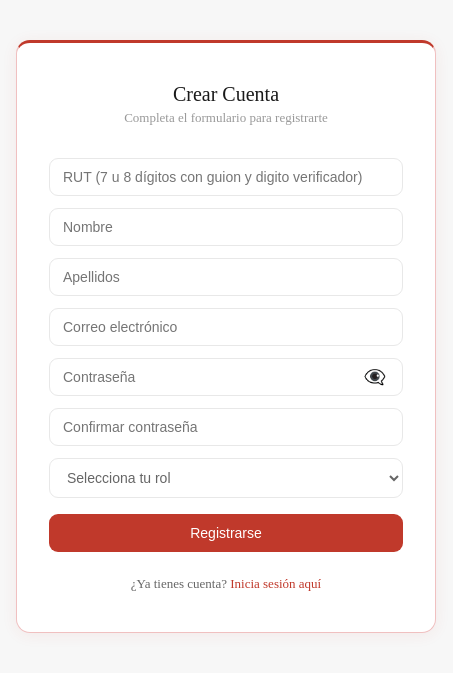
Test: Register › Validaciones de formulario › valida formato de correo
Type "21812636-7" into the field with placeholder "RUT (7 u 8 dígitos con guion y digito verificador)" at (226,176), box [49,158,403,196]
Type "Tomas" into the field with placeholder "Nombre" at (226,226), box [49,208,403,246]
Type "Valdes" into the field with placeholder "Apellidos" at (226,276), box [49,258,403,296]
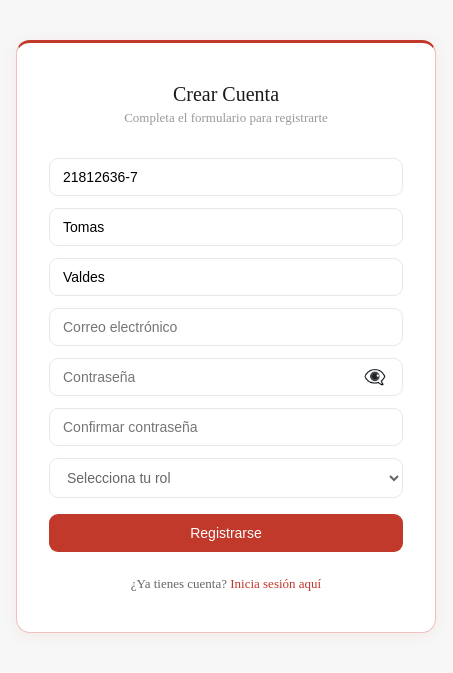
Type "correoinvalido" into the field with placeholder "Correo electrónico" at (226,326), box [49,308,403,346]
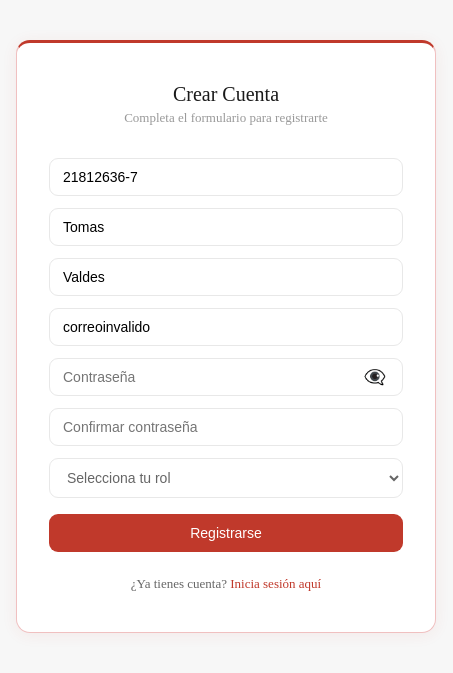
Type "Tomivaldes1!" into the password field with placeholder "Contraseña" at (226,376), box [49,358,403,396]
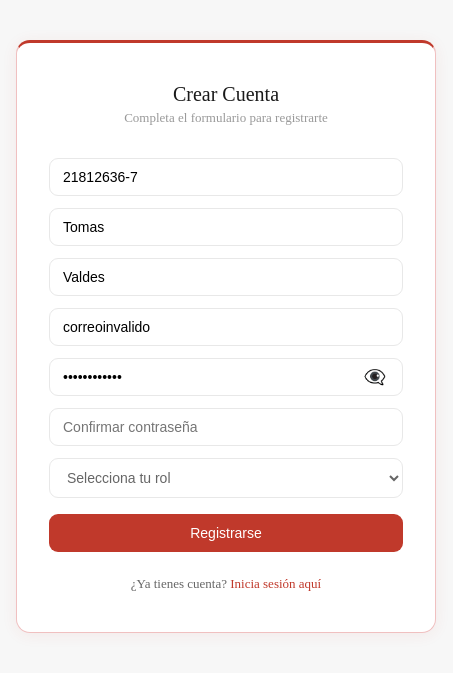
Type "Tomivaldes1!" into the password field with placeholder "Confirmar contraseña" at (226,426), box [49,408,403,446]
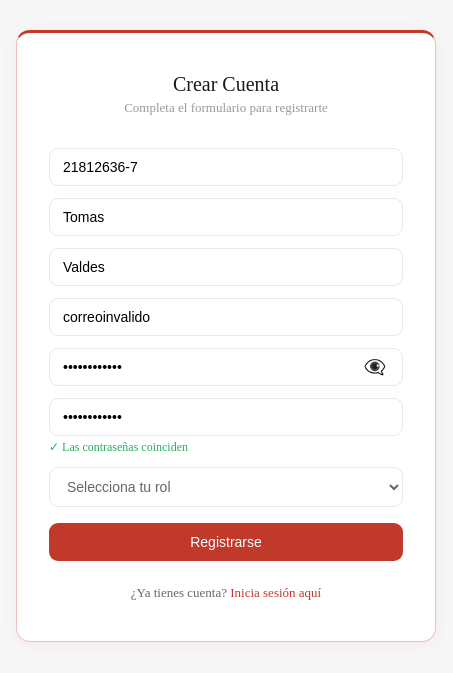
Select "Solicitante" in the dropdown at (226,487), box [49,467,403,507]
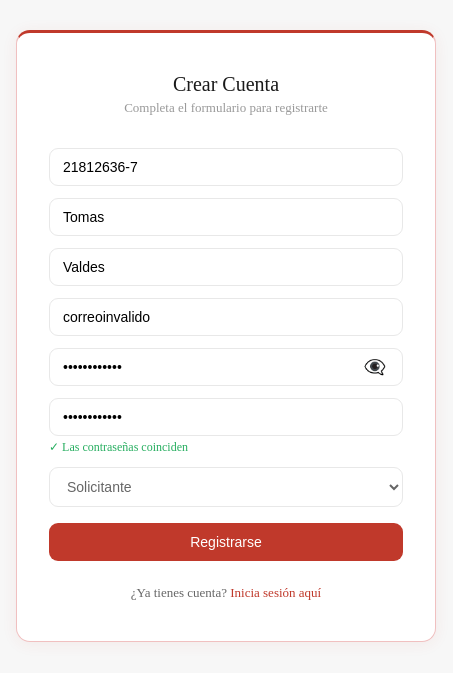
Submit the form "👁️‍🗨️ ✓ Las contraseñas coinciden Registrarse", box [49,148,403,561]
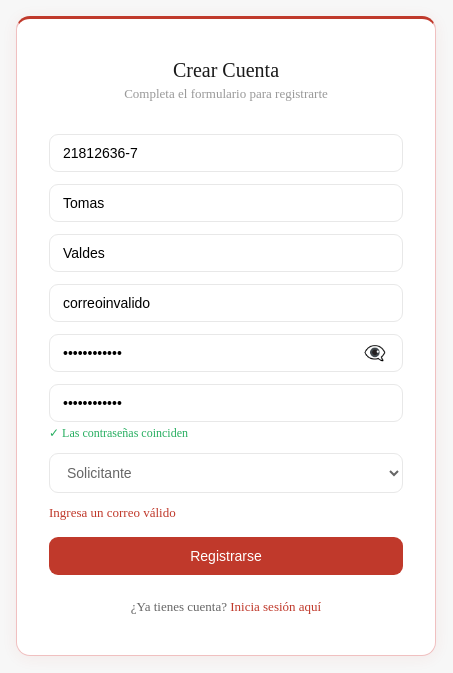
Now the message reads "Ingresa un correo válido", box [49,505,176,520]
